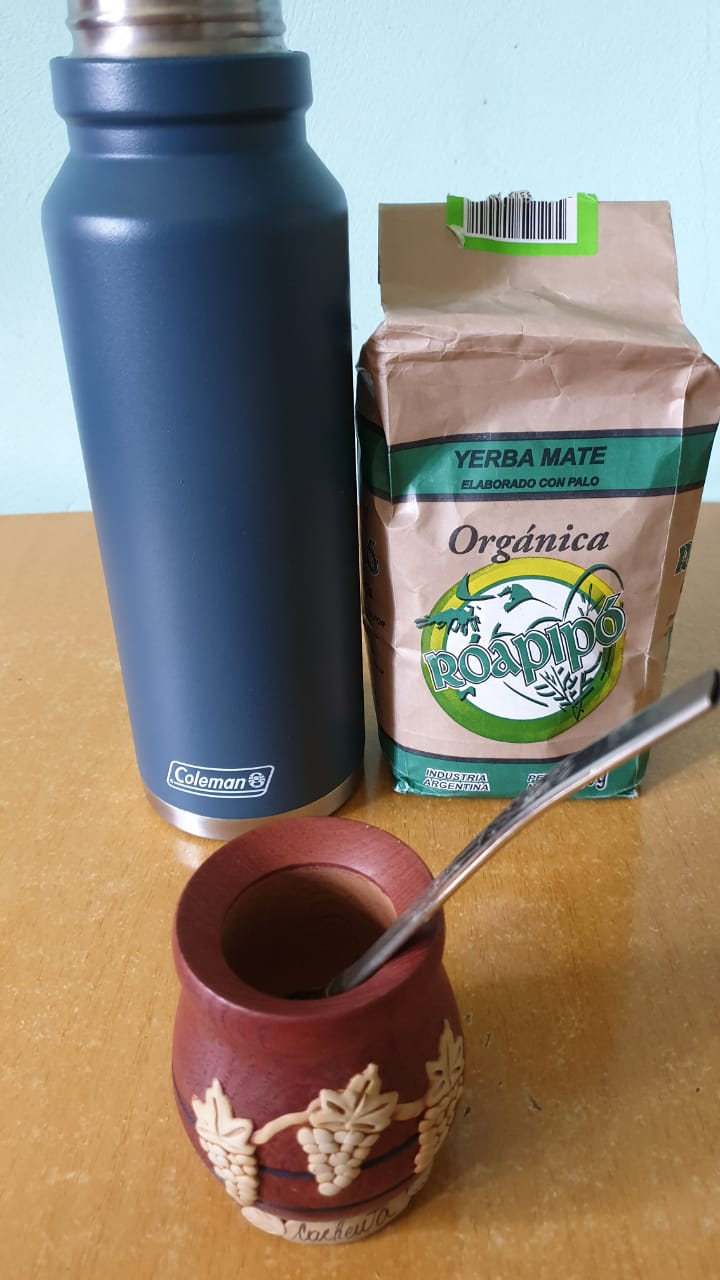madera: (162, 806, 473, 1252)
mate: (156, 799, 477, 1244)
